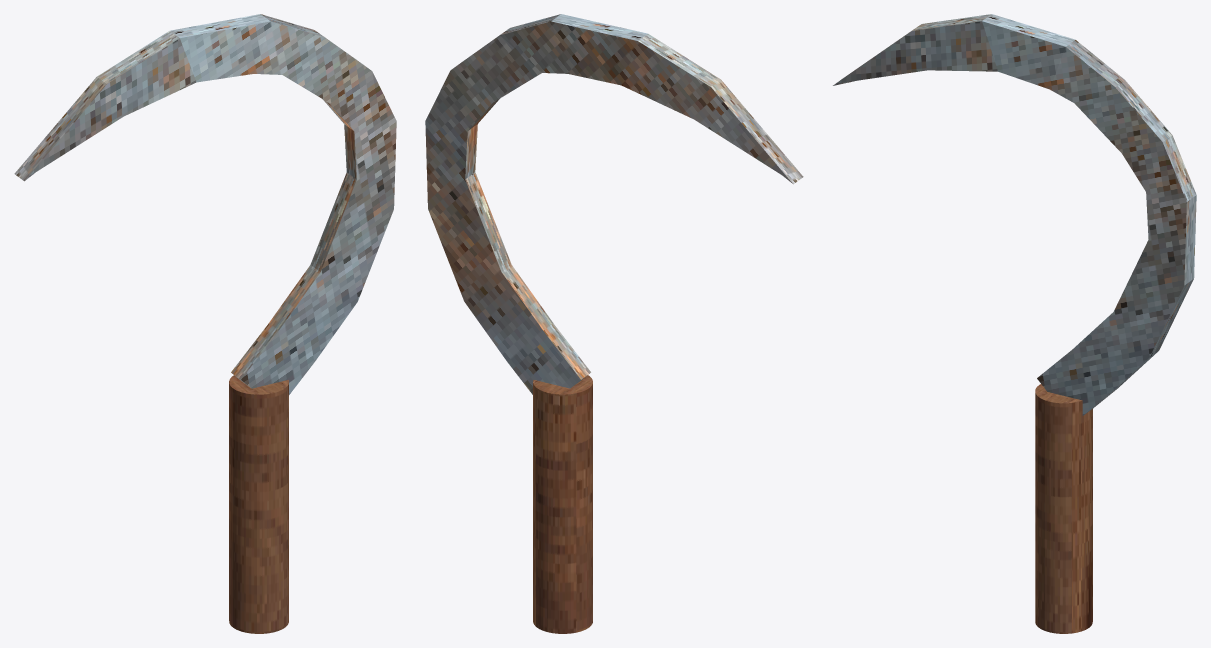
Rendered from PSXSickle.glb.
The picture shows the model from 3 angles, left to right: view 1: azimuth 30°, elevation 25°; view 2: azimuth 150°, elevation 25°; view 3: azimuth 330°, elevation 25°; orthographic projection. The views are drawn at different scales.
Parts seen in each view (by area): view 1: Sickle; view 2: Sickle; view 3: Sickle.
Part boxes in pixels (<box>): Sickle: <box>14,14,396,633</box>; Sickle: <box>425,14,803,633</box>; Sickle: <box>833,14,1196,633</box>.
Size of the model in its own units: 4.86 by 7.59 by 0.6823.
Materials: 2 (2 with a texture image).
